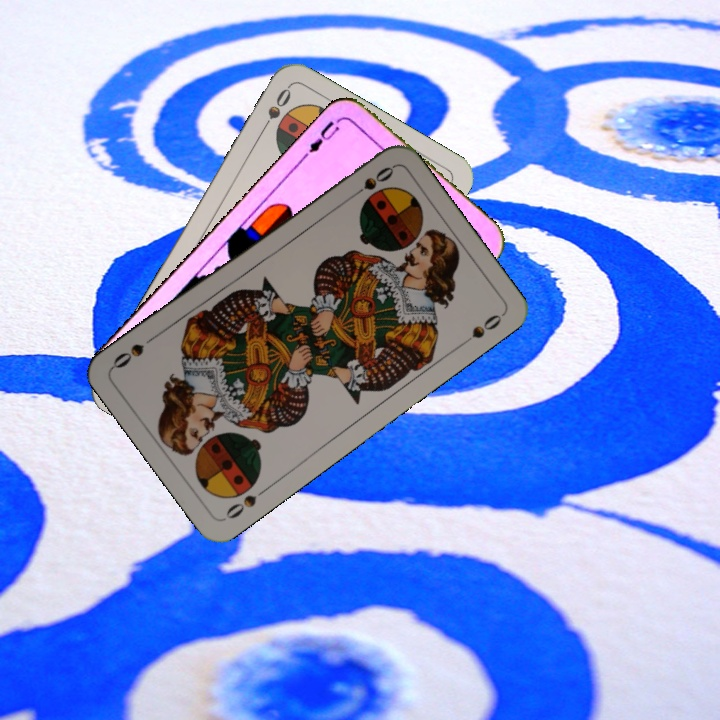EU: (300, 113, 347, 160)
SO: (345, 162, 397, 202), (256, 83, 294, 137), (221, 482, 272, 522)
